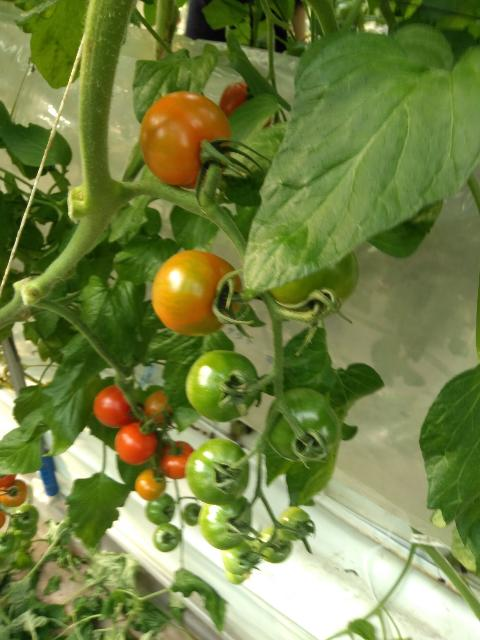l_fully_ripened: (115, 422, 159, 465), (93, 385, 135, 428), (0, 473, 17, 488)
l_green: (268, 251, 359, 317), (266, 387, 340, 461), (185, 350, 259, 423), (185, 438, 249, 506), (198, 495, 252, 551), (258, 525, 293, 563), (279, 505, 310, 541), (223, 542, 255, 575), (146, 492, 175, 524), (152, 522, 180, 552), (12, 504, 39, 531)
l_half_ripened: (138, 91, 230, 189), (152, 250, 244, 337), (157, 440, 194, 479), (144, 390, 175, 428), (134, 468, 166, 501), (0, 479, 28, 508)
